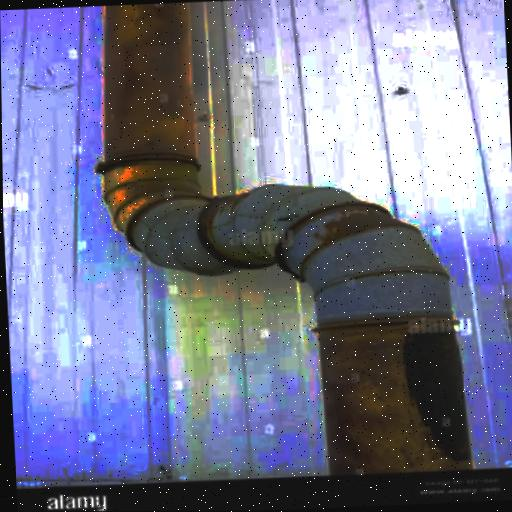corrosion: (314, 312, 478, 472), (96, 2, 222, 209), (300, 198, 416, 254)
